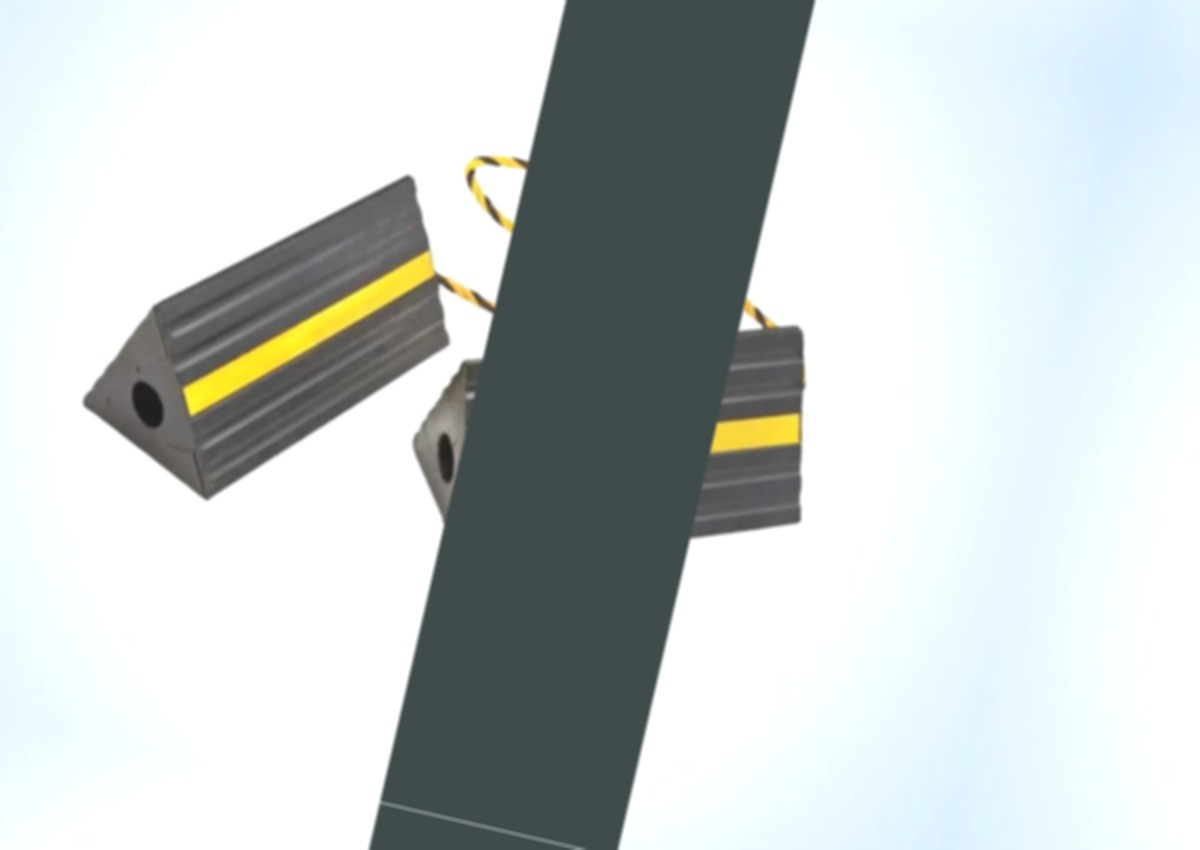chock: (59, 102, 489, 552), (388, 238, 847, 648)
